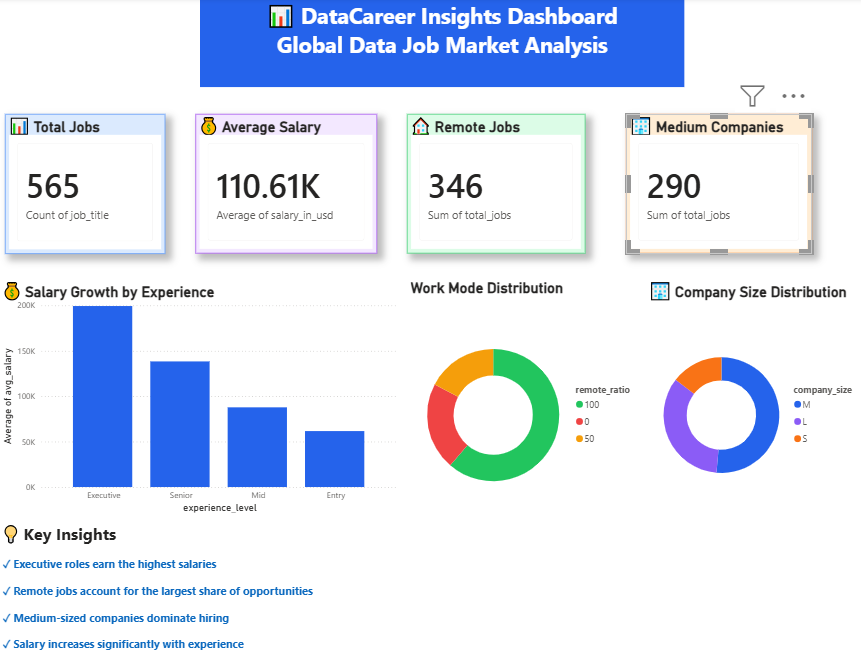

This screenshot's page, from the dashboard's own definition file:
{"tool":"powerbi","page":{"name":"Page 1","canvas":[1280,1000],"ordinal":0},"visuals":[{"type":"textbox","box":[296,0,713.6,132.6],"z":0},{"type":"cardVisual","title":"📊 Total Jobs","fields":{"Data":["CountNonNull(cleaned_ds_salaries.job_title)"]},"box":[9.4,172,236.2,206],"z":1000},{"type":"cardVisual","title":"💰 Average Salary","fields":{"Data":["Avg(cleaned_ds_salaries.salary_in_usd)"]},"box":[289.4,172.3,267.3,205.5],"z":2000},{"type":"cardVisual","title":"🏠 Remote Jobs","fields":{"Data":["Sum(remote_analysis.total_jobs)"]},"box":[600.9,172.3,262.9,205.5],"z":3000},{"type":"cardVisual","title":"🏢 Medium Companies","fields":{"Data":["Sum(company_size_analysis.total_jobs)"]},"box":[923.4,172.3,273.9,205.5],"z":4000},{"type":"clusteredColumnChart","title":"💰 Salary Growth by Experience","fields":{"Category":["salary_by_experience.experience_level"],"Y":["Avg(salary_by_experience.avg_salary)"]},"box":[0,415.3,592.1,349.1],"z":5000},{"type":"donutChart","title":"Work Mode Distribution","fields":{"Category":["remote_analysis.remote_ratio"],"Y":["Sum(remote_analysis.total_jobs)"]},"box":[600.9,415.3,351.3,375.6],"z":6000},{"type":"donutChart","title":"🏢 Company Size Distribution","fields":{"Category":["company_size_analysis.company_size"],"Y":["Sum(company_size_analysis.total_jobs)"]},"box":[952.2,415.3,327,375.6],"z":7000},{"type":"textbox","box":[0,768.8,718,225.3],"z":7001}]}

Visuals, with their boxes in screenshot pixels (x1, y1, x2, y2), scaled from the page's 1280x1000 canvas onto the 861x660 screenshot:
textbox: [x1=199, y1=0, x2=679, y2=88]
"📊 Total Jobs" cardVisual: [x1=6, y1=114, x2=165, y2=249]
"💰 Average Salary" cardVisual: [x1=195, y1=114, x2=374, y2=249]
"🏠 Remote Jobs" cardVisual: [x1=404, y1=114, x2=581, y2=249]
"🏢 Medium Companies" cardVisual: [x1=621, y1=114, x2=805, y2=249]
"💰 Salary Growth by Experience" clusteredColumnChart: [x1=0, y1=274, x2=398, y2=505]
"Work Mode Distribution" donutChart: [x1=404, y1=274, x2=641, y2=522]
"🏢 Company Size Distribution" donutChart: [x1=641, y1=274, x2=860, y2=522]
textbox: [x1=0, y1=507, x2=483, y2=656]
